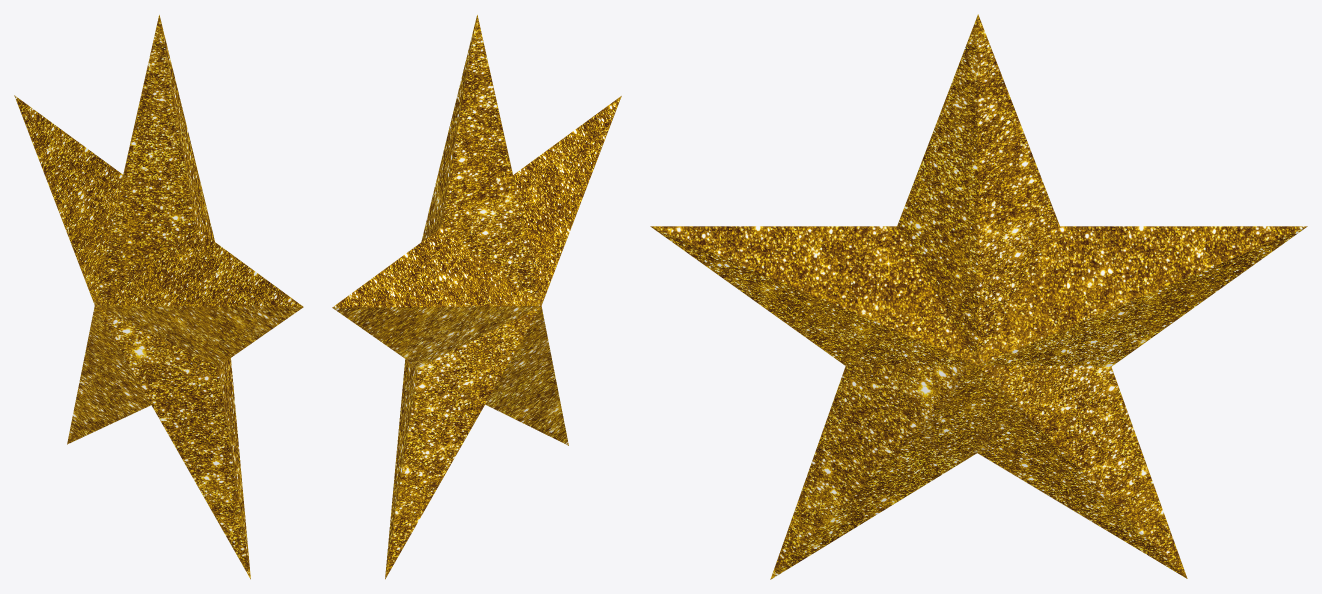
Rendered from star.glb.
3 views of the same model, side by side, from view 1: azimuth 30°, elevation 25°; view 2: azimuth 150°, elevation 25°; view 3: azimuth 270°, elevation 25° (orthographic). The views are drawn at different scales.
Parts seen in each view (by area): view 1: Star.001_4; view 2: Star.001_4; view 3: Star.001_4.
Boxes of the visible parts, bbox=[...] form: Star.001_4: bbox=[14, 15, 303, 579]; Star.001_4: bbox=[332, 15, 621, 579]; Star.001_4: bbox=[650, 14, 1307, 579].
Size of what is drawn, in the model's own units: 1.11 by 4.12 by 4.34.
1 material, 1 textured.
